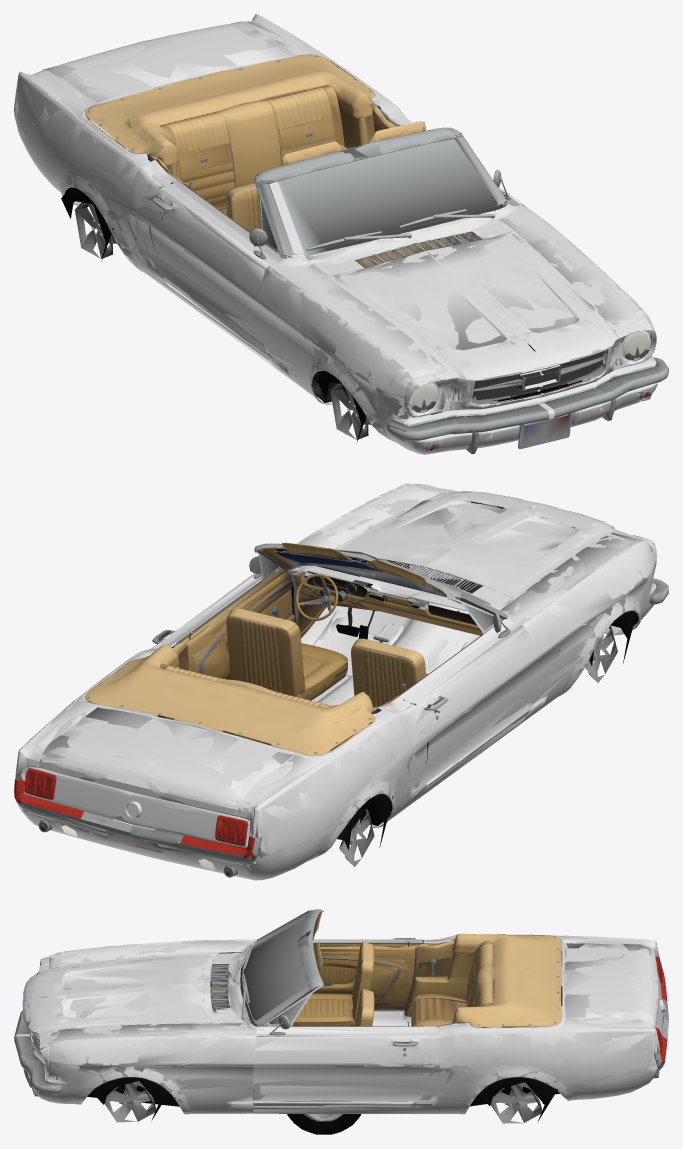
Rendered from conv1.glb.
3 views of the same model, one above another, from view 1: azimuth 30°, elevation 25°; view 2: azimuth 150°, elevation 25°; view 3: azimuth 270°, elevation 25° (orthographic). The views are drawn at different scales.
Parts seen in each view (by area): view 1: body0, body2, body1; view 2: body0, body2, body1; view 3: body0, body2, body1, wheel0, wheel1.
Boxes of the visible parts, x1=… form: body0: x1=14, y1=14, x2=667, y2=454; body2: x1=14, y1=14, x2=668, y2=454; body1: x1=14, y1=14, x2=668, y2=453; body0: x1=14, y1=483, x2=666, y2=879; body2: x1=14, y1=483, x2=668, y2=880; body1: x1=14, y1=484, x2=668, y2=880; body0: x1=14, y1=909, x2=668, y2=1114; body2: x1=14, y1=909, x2=668, y2=1123; body1: x1=14, y1=909, x2=668, y2=1114; wheel0: x1=287, y1=1114, x2=360, y2=1134; wheel1: x1=287, y1=1114, x2=361, y2=1134.
Bounding box in the file's own units: 1.81 × 1.53 × 4.61.
